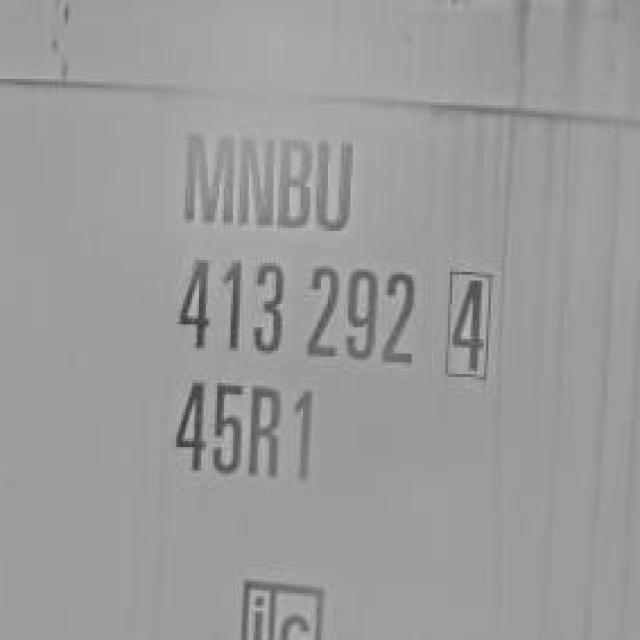dv: (436, 263, 502, 380)
owner: (172, 121, 364, 238)
serial: (167, 248, 418, 368)
size: (169, 371, 329, 488)
